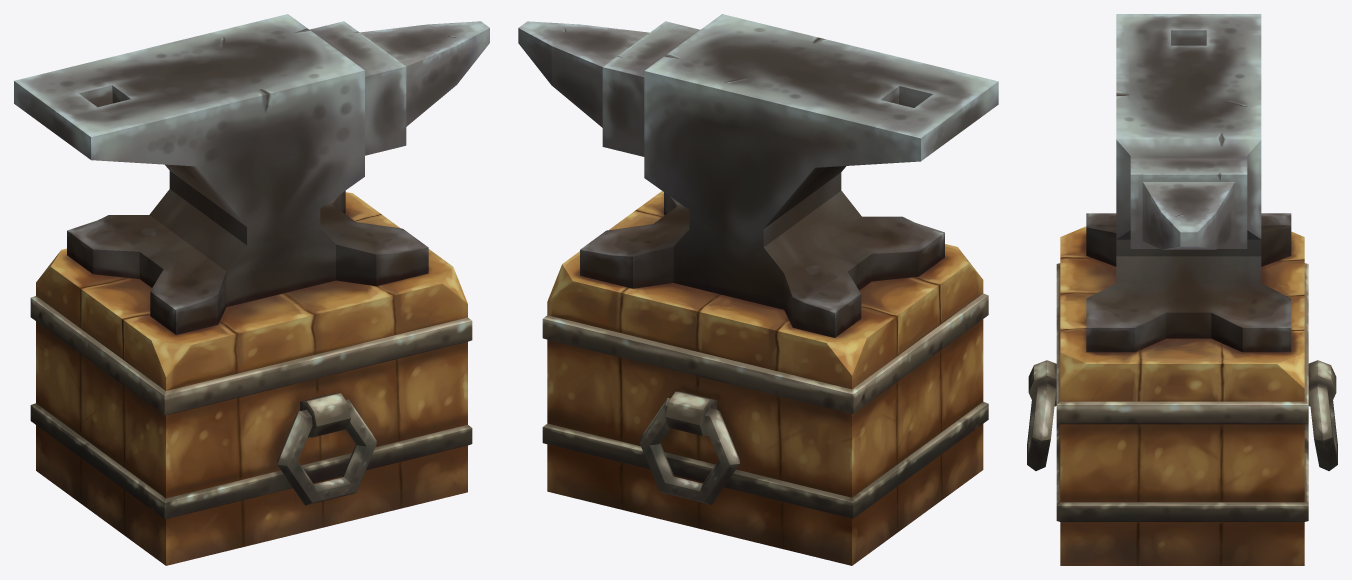
The picture shows the model from 3 angles, left to right: view 1: azimuth 30°, elevation 25°; view 2: azimuth 150°, elevation 25°; view 3: azimuth 270°, elevation 25°; orthographic projection. The views are drawn at different scales.
Visible parts, largest first — view 1: simple-anvil; view 2: simple-anvil; view 3: simple-anvil.
Part boxes in pixels (x1,y1,x2,y2): simple-anvil: (14,14,489,565); simple-anvil: (518,14,998,565); simple-anvil: (1027,14,1337,565).
Bounding box in the file's own units: 6.42 × 5.92 × 4.25.
1 material, 1 textured.
